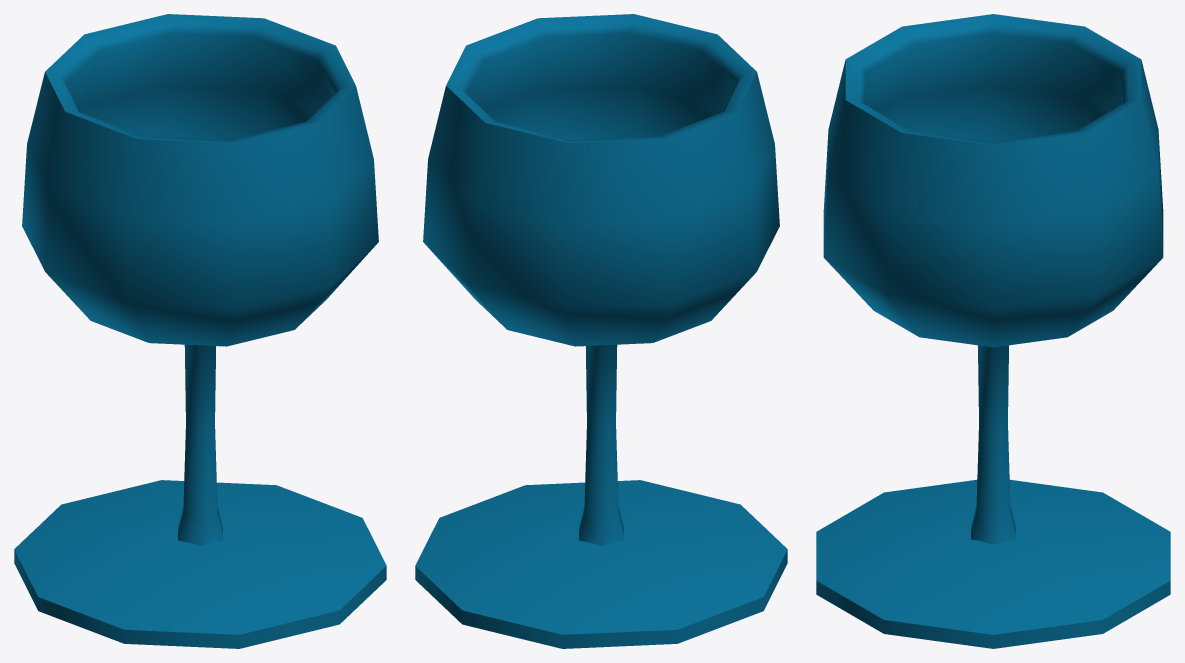
The model's file is SE_Wine_Glass_01_SM.FBX.
3 views of the same model, side by side, from view 1: azimuth 30°, elevation 25°; view 2: azimuth 150°, elevation 25°; view 3: azimuth 270°, elevation 25° (orthographic).
Parts seen in each view (by area): view 1: SE_Wine_Glass_01_SM_LOD0; view 2: SE_Wine_Glass_01_SM_LOD0; view 3: SE_Wine_Glass_01_SM_LOD0.
Part boxes in pixels (x1,y1,x2,y2): SE_Wine_Glass_01_SM_LOD0: (14, 14, 386, 648); SE_Wine_Glass_01_SM_LOD0: (415, 14, 787, 648); SE_Wine_Glass_01_SM_LOD0: (816, 14, 1170, 648).
Size of what is drawn, in the model's own units: 85.9 by 81.7 by 125.
